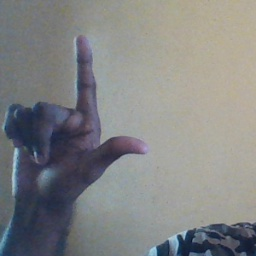L: (5, 34, 152, 199)
